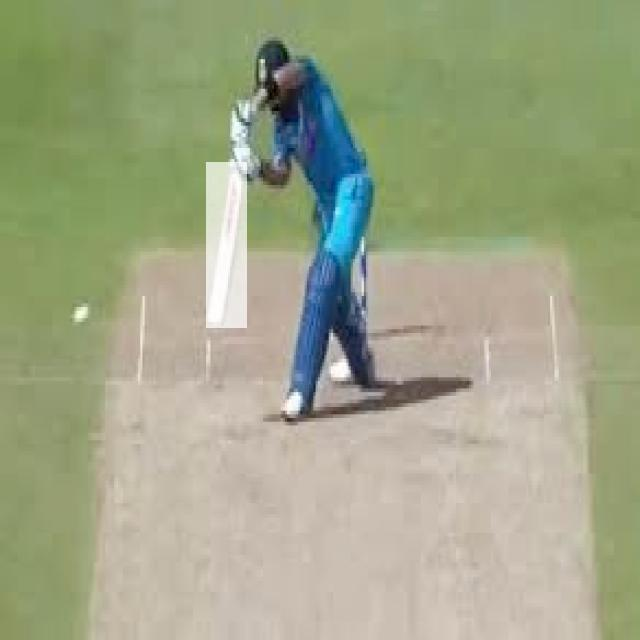bat: (208, 168, 245, 327)
toe: (206, 318, 228, 326)
